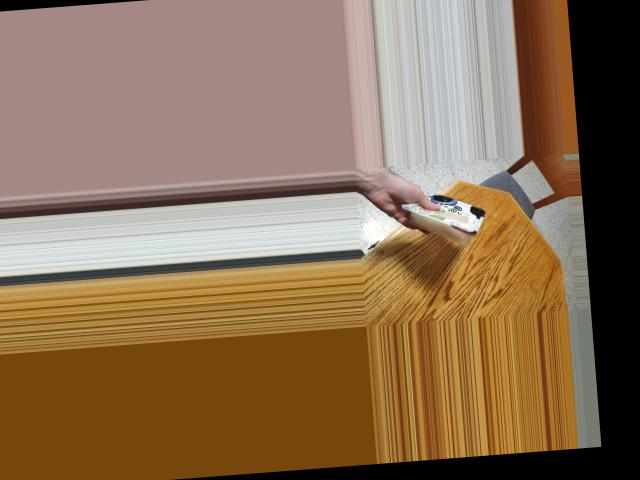cheese: (412, 178, 483, 247)
